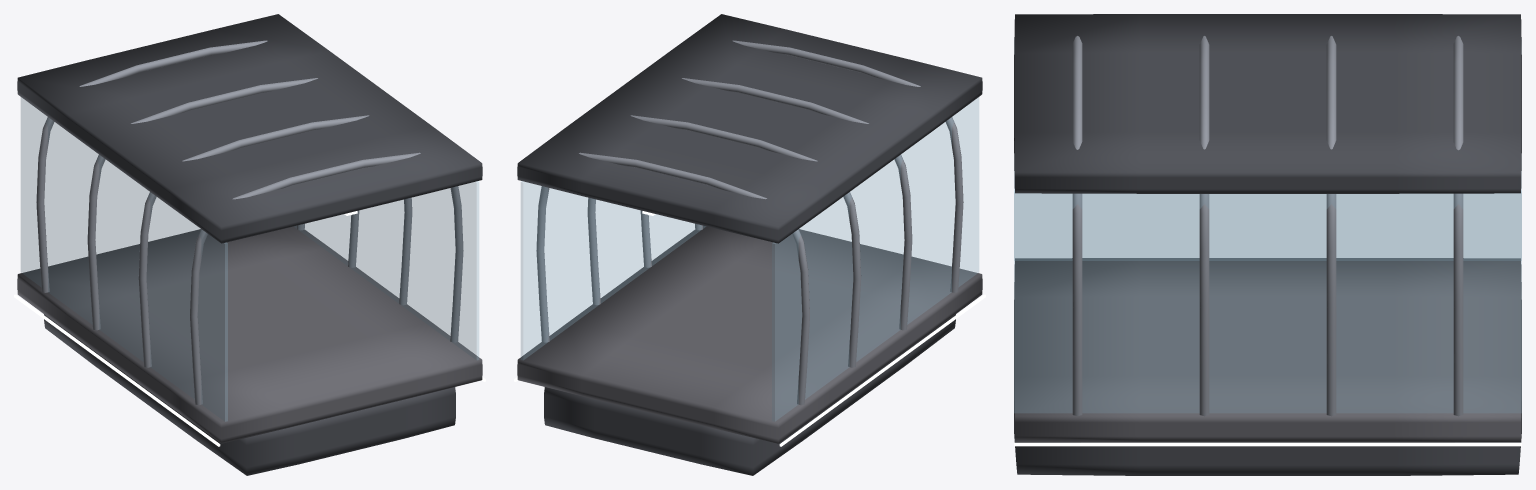
The model's file is skybridge.glb.
3 views of the same model, side by side, from view 1: azimuth 30°, elevation 25°; view 2: azimuth 150°, elevation 25°; view 3: azimuth 270°, elevation 25° (orthographic). The views are drawn at different scales.
Visible parts, largest first — view 1: skybridge; view 2: skybridge; view 3: skybridge.
Boxes of the visible parts, x1,y1,x2,y2 form: skybridge: (14,14,485,475); skybridge: (514,14,985,475); skybridge: (1014,14,1521,475).
Size of the model in its own units: 7.72 by 7.19 by 10.
